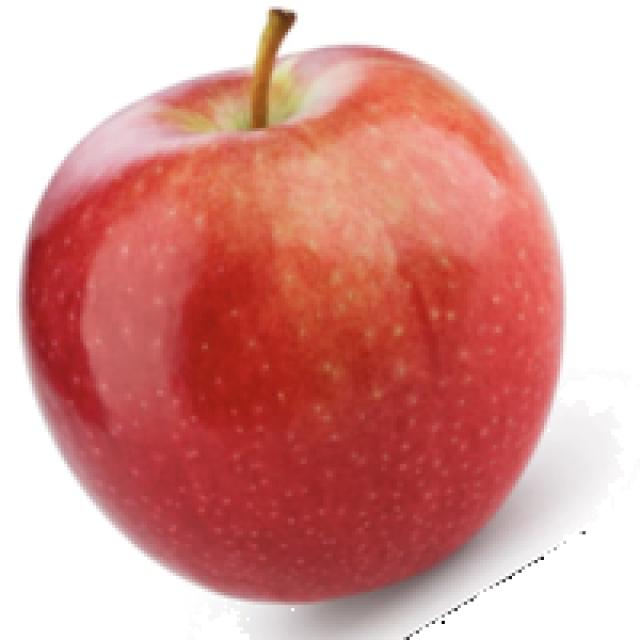apple: (20, 7, 571, 600)
